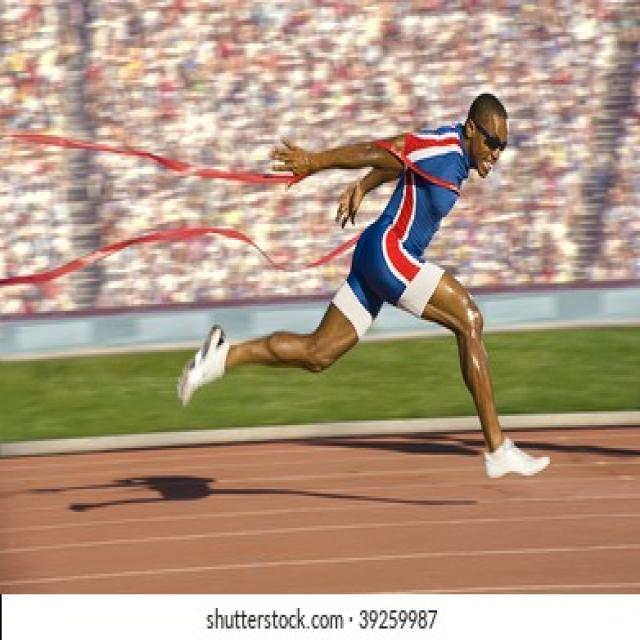running: (176, 86, 556, 486)
